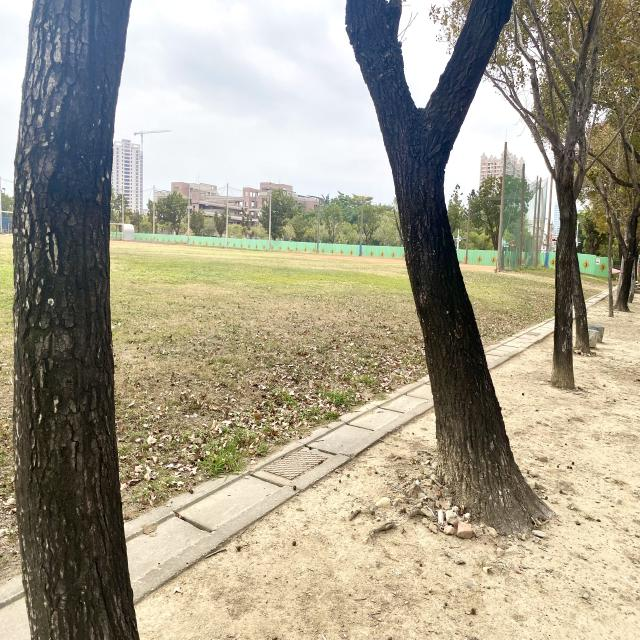tree: (346, 0, 552, 533), (12, 0, 139, 638), (485, 0, 602, 388), (571, 248, 590, 353)
